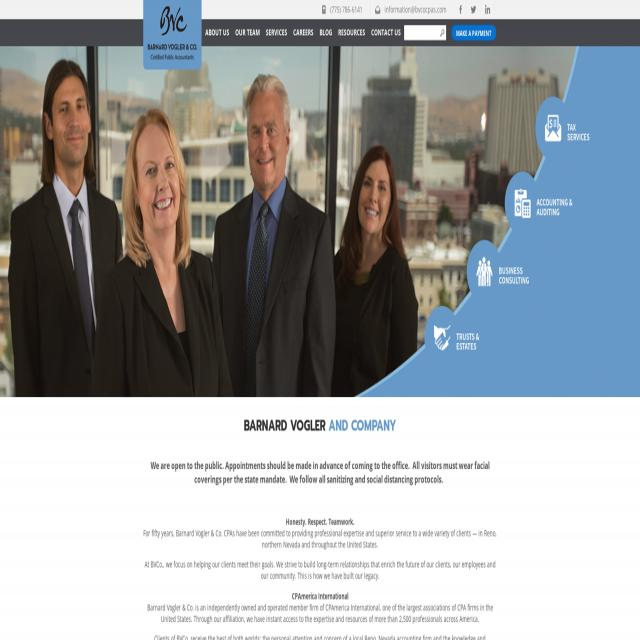button: (505, 172, 573, 236), (143, 0, 202, 69), (467, 240, 529, 304), (424, 306, 480, 370), (535, 96, 590, 160), (452, 24, 496, 40), (466, 0, 480, 19), (480, 0, 494, 19), (372, 0, 384, 19), (454, 0, 466, 19), (318, 0, 329, 19), (440, 26, 446, 40)
field: (404, 26, 440, 40)
